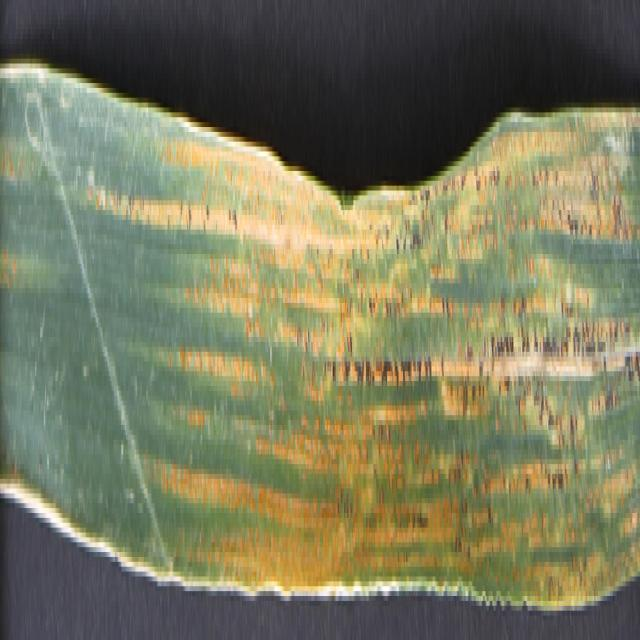leaf rust: (97, 103, 633, 586)
